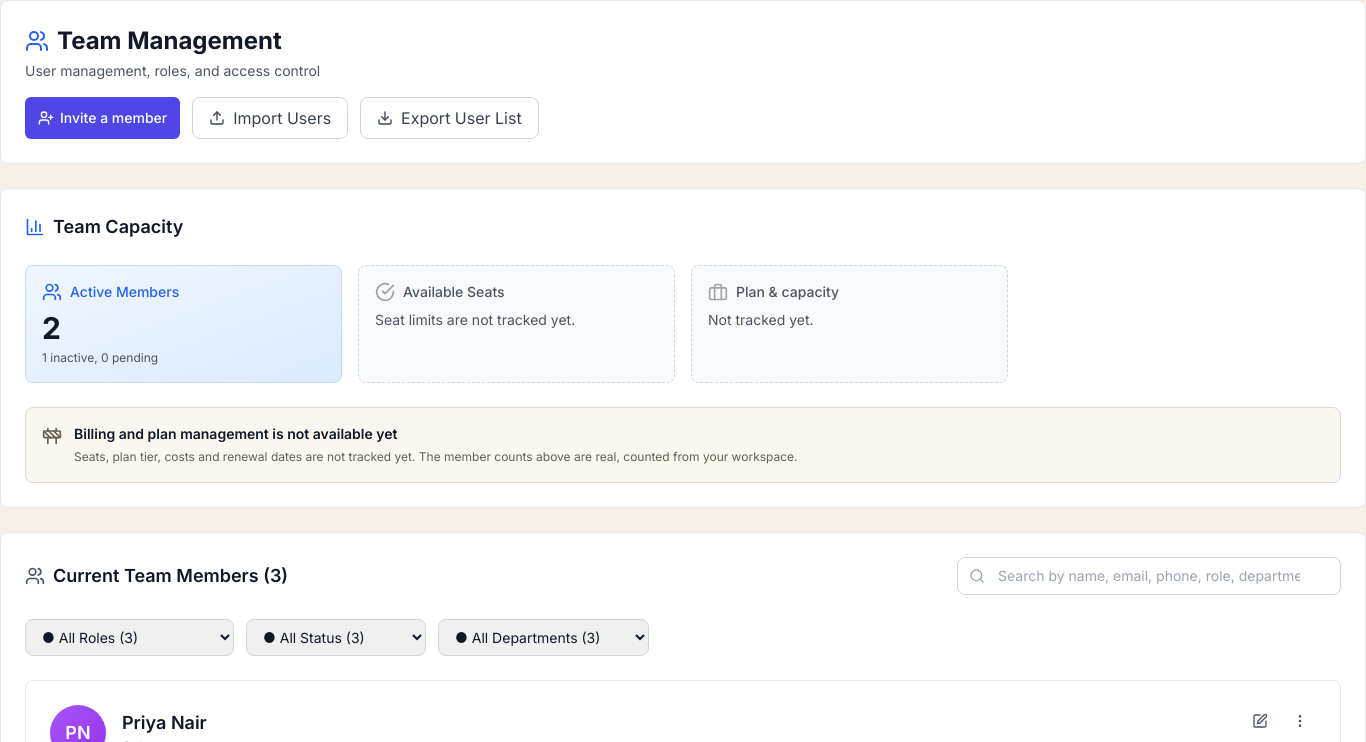
Test case: TeamManagement — invite › a rejected invite shows the server's reason
expect the heading "Priya Nair" is shown: met, box [122, 709, 207, 737]
Click the button "Invite a member" at (103, 118), box [25, 97, 180, 139]
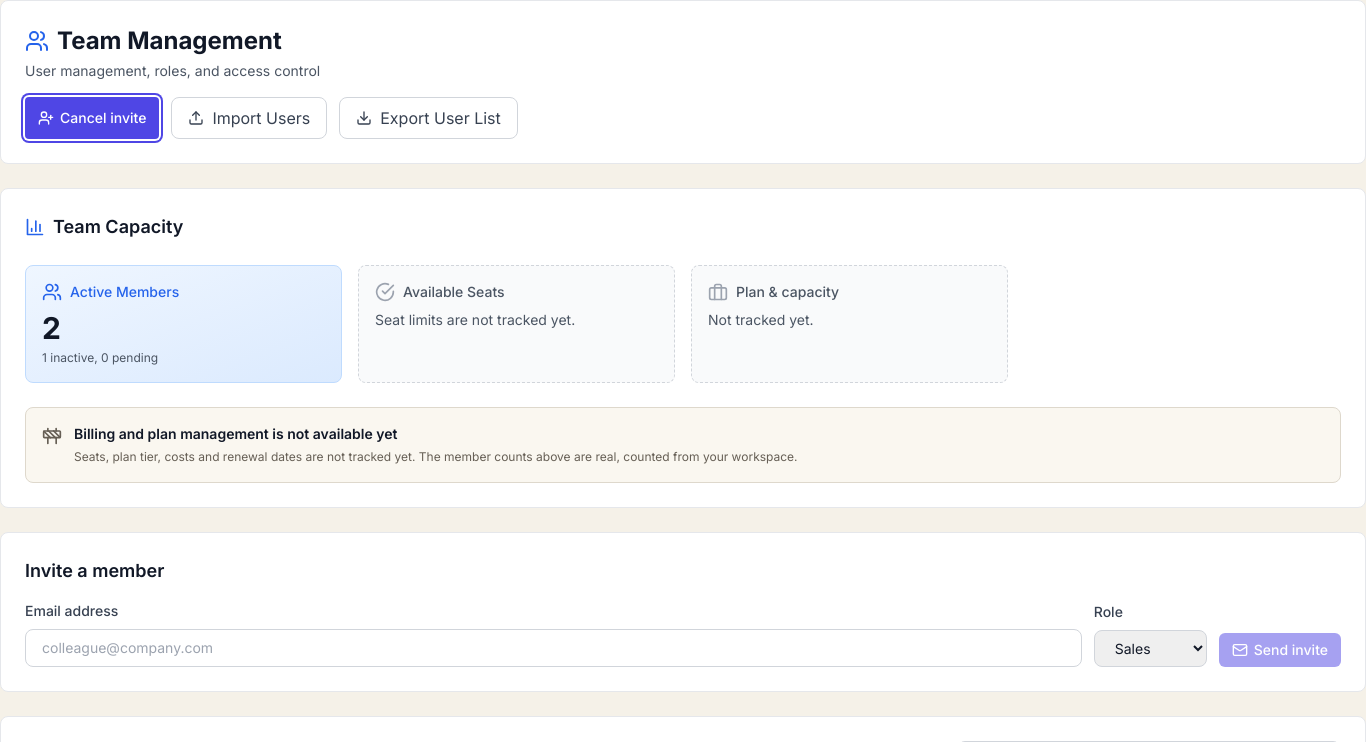
Type "priya@example.com" into the field labelled "Email address" at (553, 648), box [25, 629, 1082, 667]
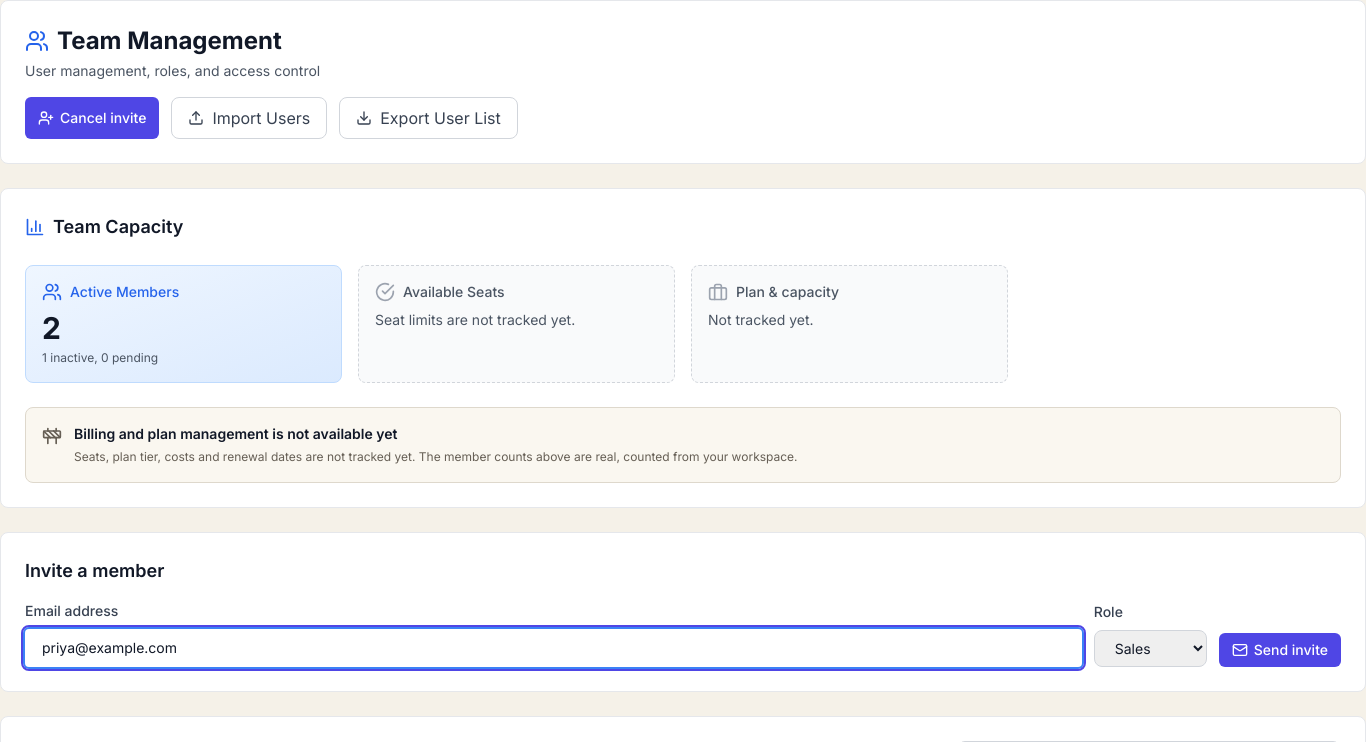
Click the button "Send invite" at (1280, 650), box [1219, 633, 1341, 667]
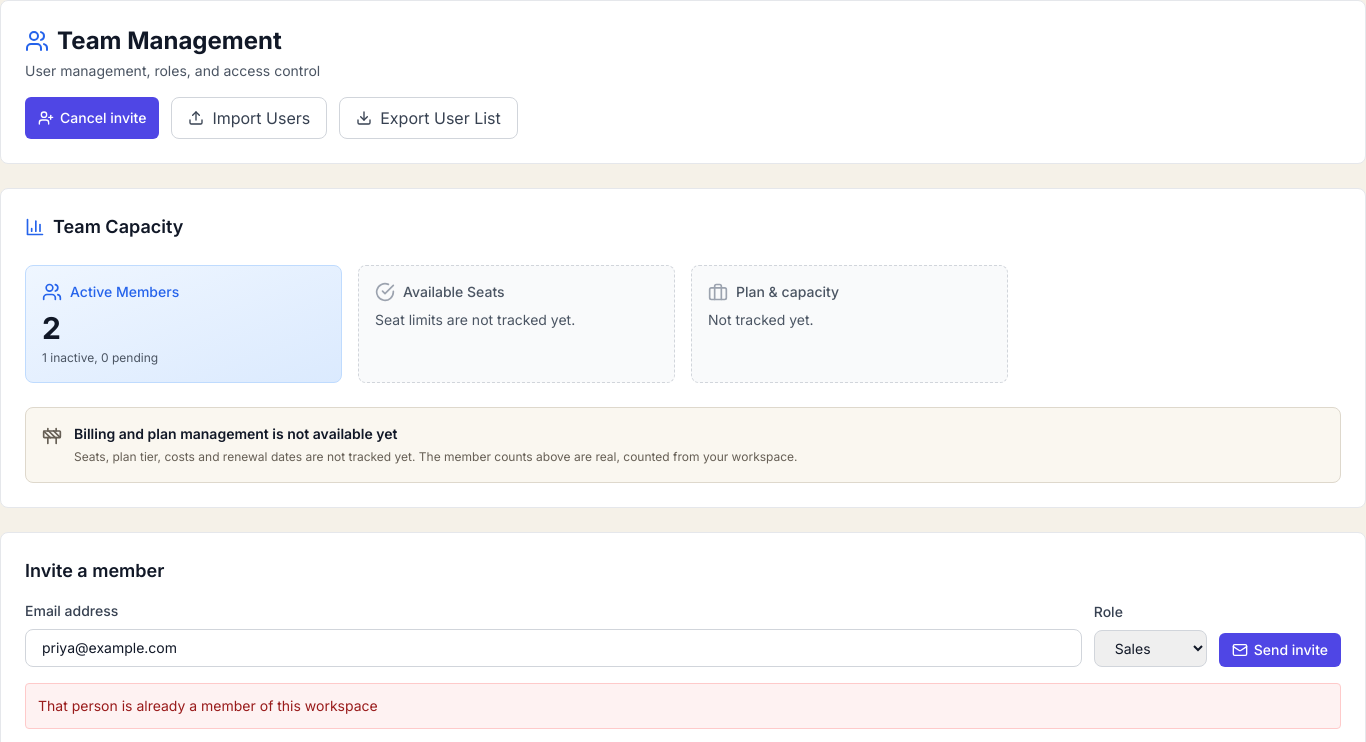
expect the message reads "That person is already a member of this workspace": met, box [38, 697, 378, 714]
